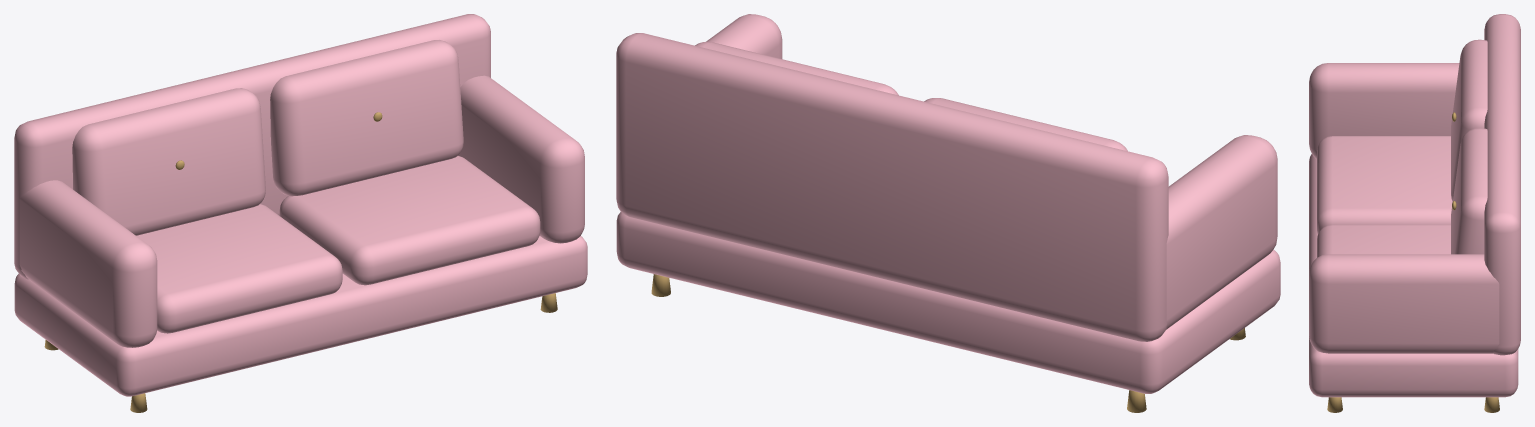
Rendered from sofa_2.glb.
3 renders of one model, left to right at view 1: azimuth 30°, elevation 25°; view 2: azimuth 150°, elevation 25°; view 3: azimuth 270°, elevation 25°, orthographic. The views are drawn at different scales.
Visible parts, largest first — view 1: Cone; view 2: Cone; view 3: Cone.
Boxes of the visible parts, left/top/right/bottom form: Cone: left=14, top=14, right=587, bottom=412; Cone: left=616, top=14, right=1280, bottom=412; Cone: left=1309, top=14, right=1520, bottom=412.
Size of the model in its own units: 1.9 by 0.86 by 0.81.
